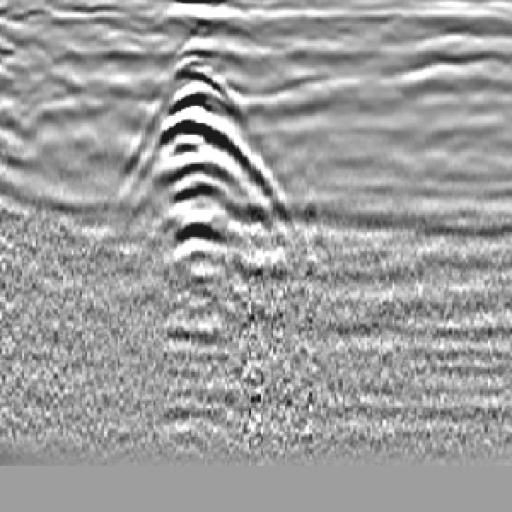metalic: (148, 52, 283, 323)
